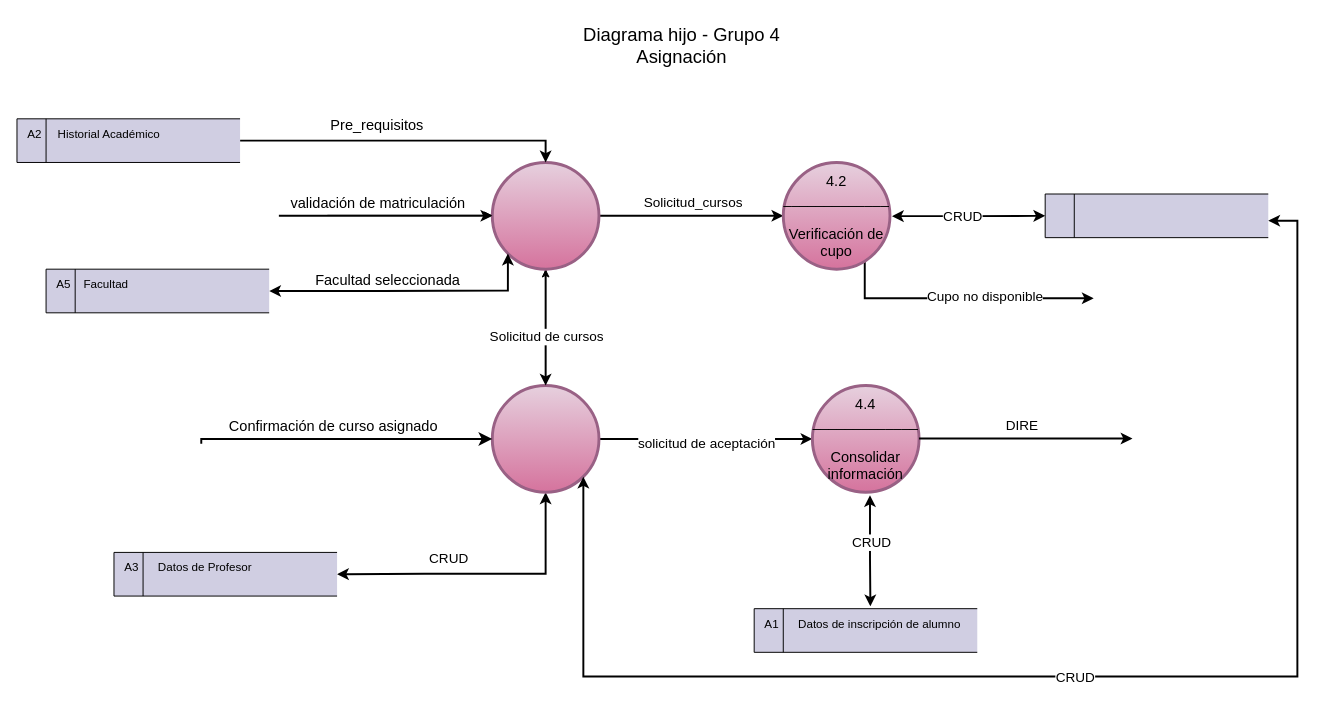
Some shapes in this 1324 by 702 pixel diagram are drawn without their labels. The box of each missing label's shape, as (x1, y1, x2, y2) in pixels:
4.1 _ ___ _________ Selección de materias: (490, 161, 600, 270)
4.3 _ ___ _________ Asignación de catrdrático: (490, 384, 600, 493)
A4 Materias/Horarios: (1044, 193, 1268, 238)
